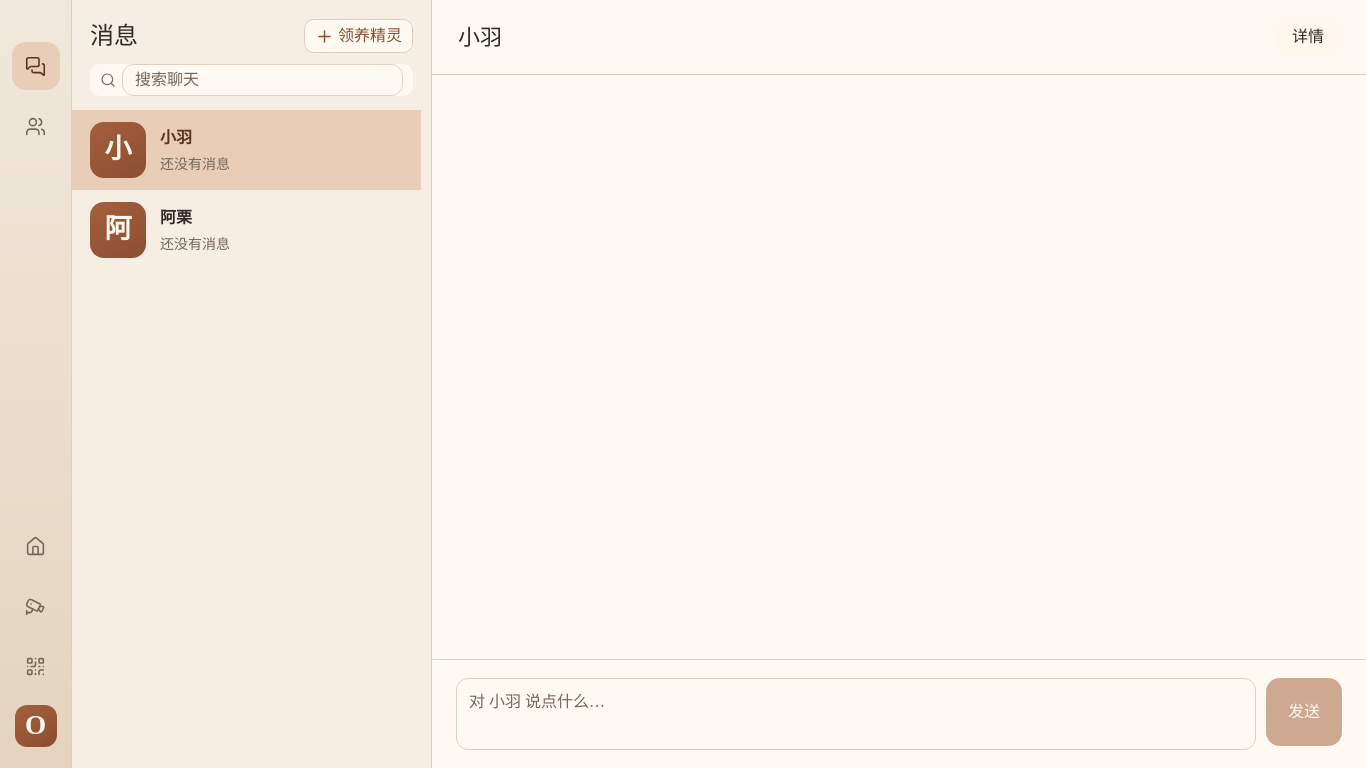
Test: ChatPage list pane headings › ignores a previous Elfie's late history response after switching conversations
Click the button "阿 阿栗 还没有消息" at {"x": 118, "y": 230}, box 72,190 -> 421,270
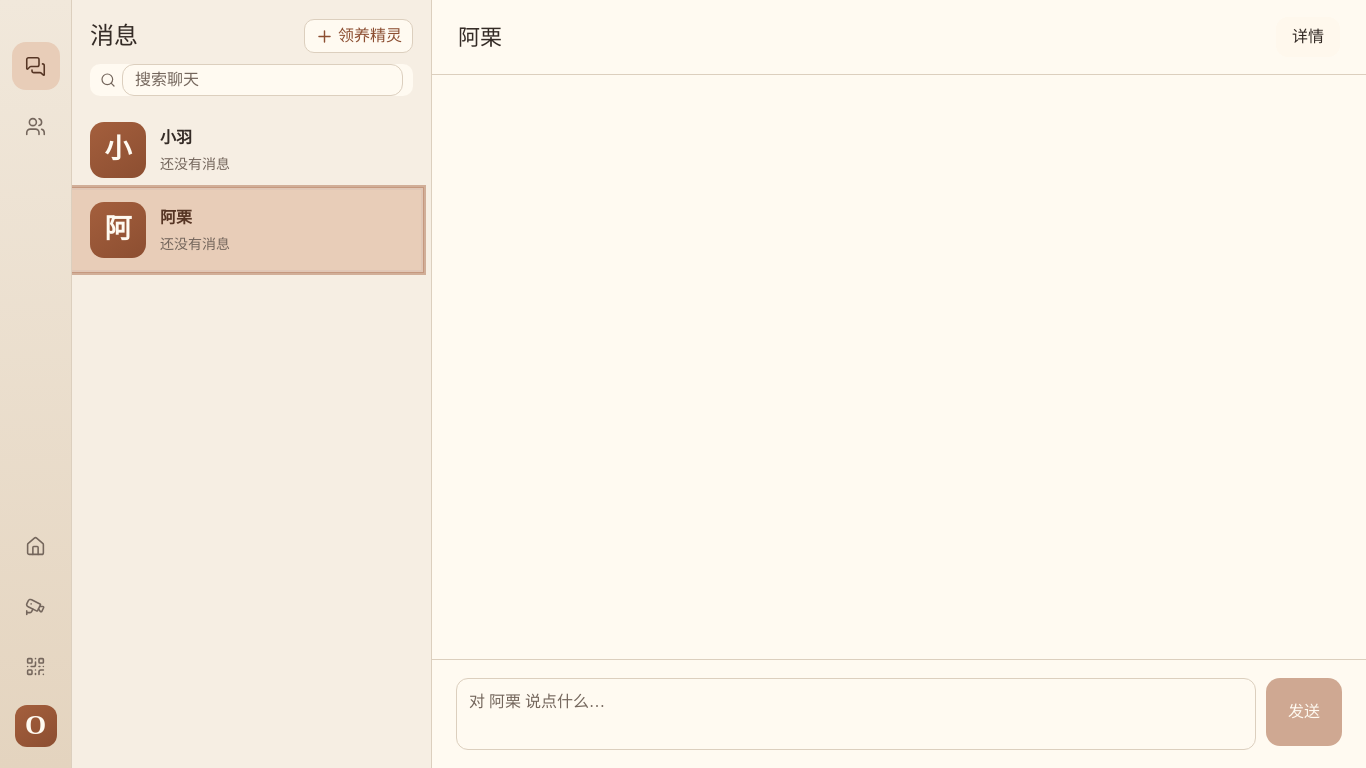
Result: the heading "阿栗" is shown at 458,20 -> 502,54
